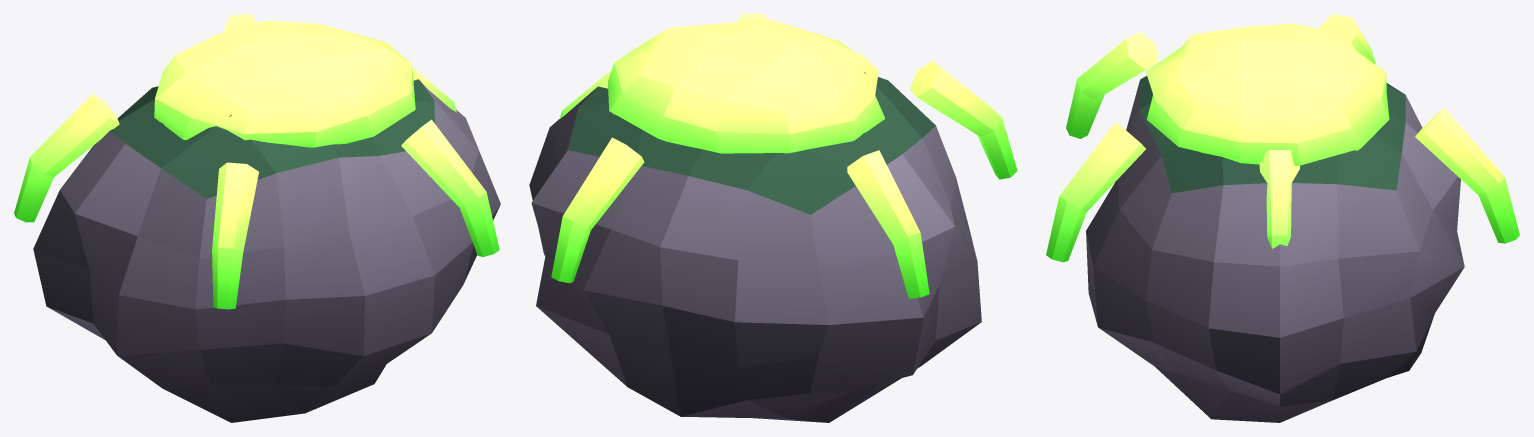
Rendered from PlayGround_Kit_Boulder_Slime.fbx.
The picture shows the model from 3 angles, left to right: view 1: azimuth 30°, elevation 25°; view 2: azimuth 150°, elevation 25°; view 3: azimuth 270°, elevation 25°; orthographic projection. The views are drawn at different scales.
Visible parts, largest first — view 1: PlayGround_Kit_Boulder_Slime; view 2: PlayGround_Kit_Boulder_Slime; view 3: PlayGround_Kit_Boulder_Slime.
Boxes of the visible parts, left/top/right/bottom form: PlayGround_Kit_Boulder_Slime: left=14, top=14, right=500, bottom=422; PlayGround_Kit_Boulder_Slime: left=529, top=14, right=1017, bottom=422; PlayGround_Kit_Boulder_Slime: left=1046, top=14, right=1519, bottom=422.
Bounding box in the file's own units: 2.18 × 1.65 × 2.06.
